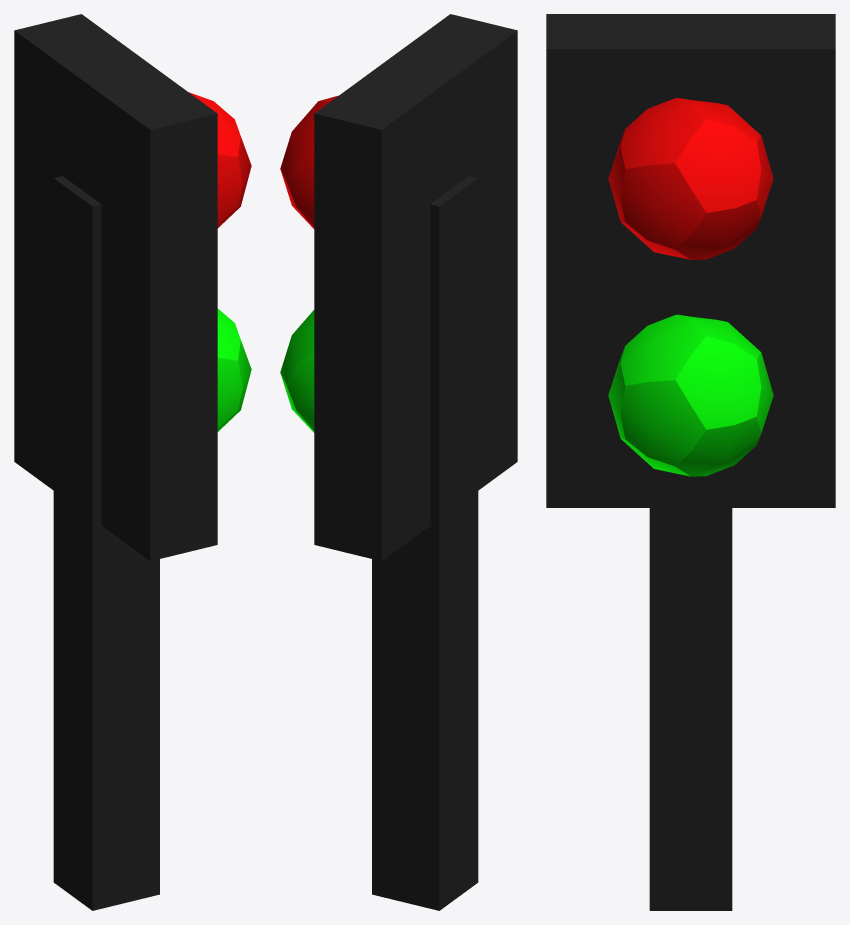
Rendered from Light.obj.
3 renders of one model, left to right at view 1: azimuth 30°, elevation 25°; view 2: azimuth 150°, elevation 25°; view 3: azimuth 270°, elevation 25°, orthographic. The views are drawn at different scales.
Parts seen in each view (by area): view 1: pCube4, pCube3, pPlatonic1, pasted__pPlatonic1 group2; view 2: pCube4, pCube3, pPlatonic1, pasted__pPlatonic1 group2; view 3: pCube4, pCube3, pasted__pPlatonic1 group2, pPlatonic1.
Boxes of the visible parts, x1,y1,x2,y2 form: pCube4: [14, 14, 217, 561]; pCube3: [53, 176, 159, 910]; pPlatonic1: [189, 92, 251, 228]; pasted__pPlatonic1 group2: [217, 308, 251, 431]; pCube4: [314, 14, 517, 561]; pCube3: [372, 176, 478, 910]; pPlatonic1: [280, 95, 338, 228]; pasted__pPlatonic1 group2: [280, 310, 314, 432]; pCube4: [546, 14, 835, 507]; pCube3: [649, 508, 732, 910]; pasted__pPlatonic1 group2: [608, 314, 773, 476]; pPlatonic1: [608, 98, 773, 259].
Bounding box in the file's own units: 1.24 × 5.78 × 1.75.
